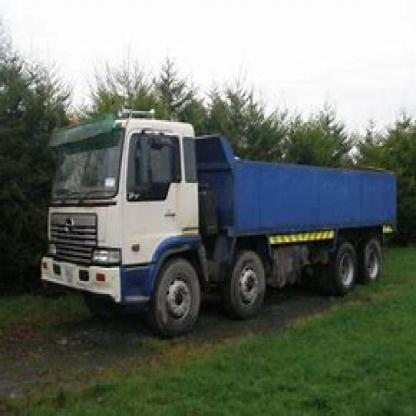dump_truck: (44, 96, 402, 346)
